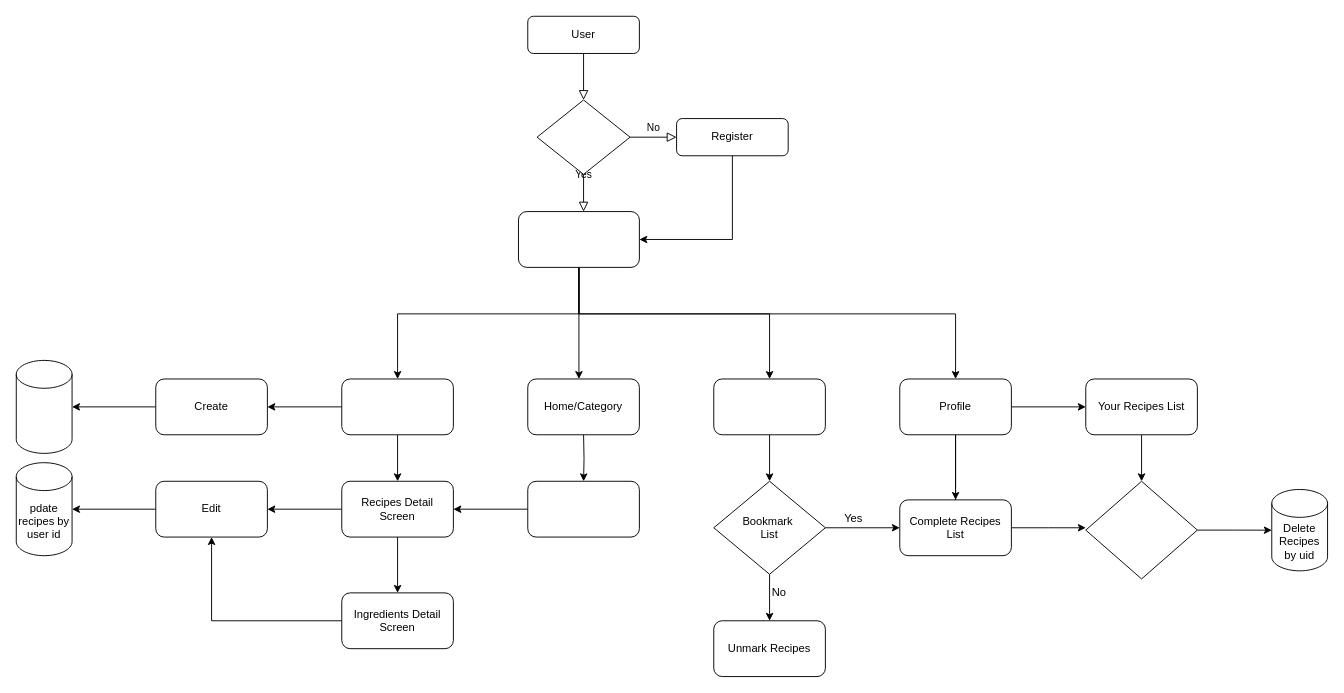
This 1344x693 diagram has some shape labels left out. Here are the shapes that lost their labels. From the top down, the box of each, then its label:
(536, 99, 630, 174): Login
(518, 211, 639, 267): Dashboard
(15, 359, 72, 453): save recipes by user Id
(341, 378, 453, 435): Recipes List
(713, 378, 825, 435): Bookmark
(527, 480, 639, 537): Recipes List By Category
(1085, 480, 1197, 579): Delete
